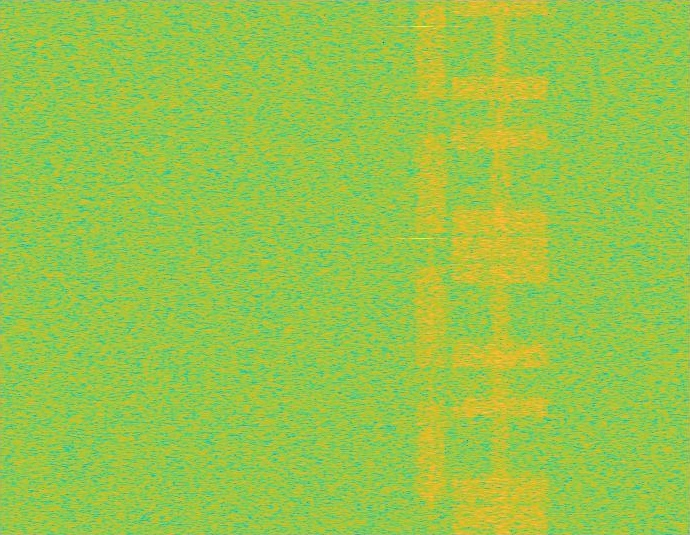5G: (414, 0, 449, 534)
DSSS: (489, 0, 512, 534), (429, 0, 434, 534)
LTE: (449, 0, 552, 534)
Radar: (415, 0, 429, 534)
